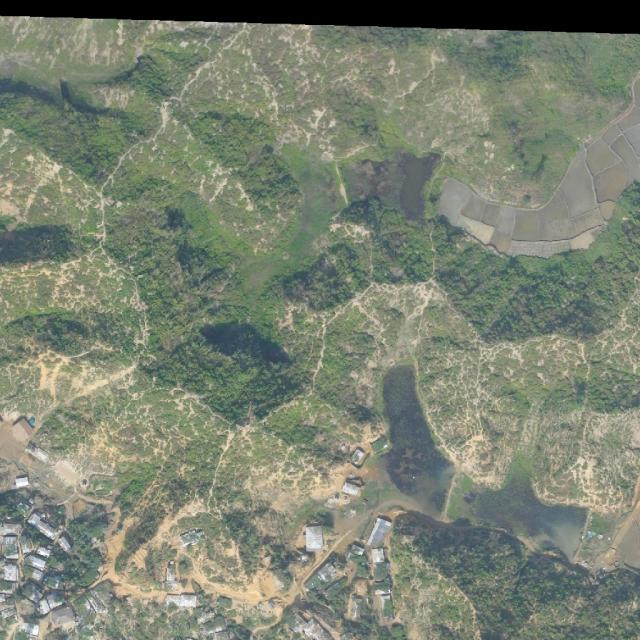agricultural_land: (390, 514, 640, 639)
building: (0, 491, 76, 640), (305, 515, 393, 595), (305, 525, 324, 552), (165, 594, 198, 609), (305, 524, 320, 547)
greenland: (0, 18, 640, 640), (67, 578, 125, 631)
